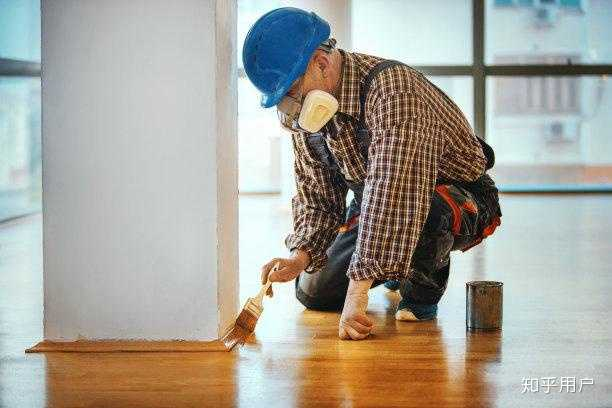safetyhat: (231, 4, 507, 344)
